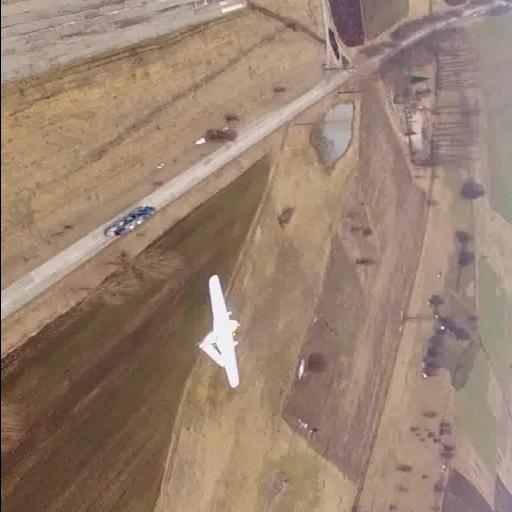uav: (186, 272, 252, 388)
